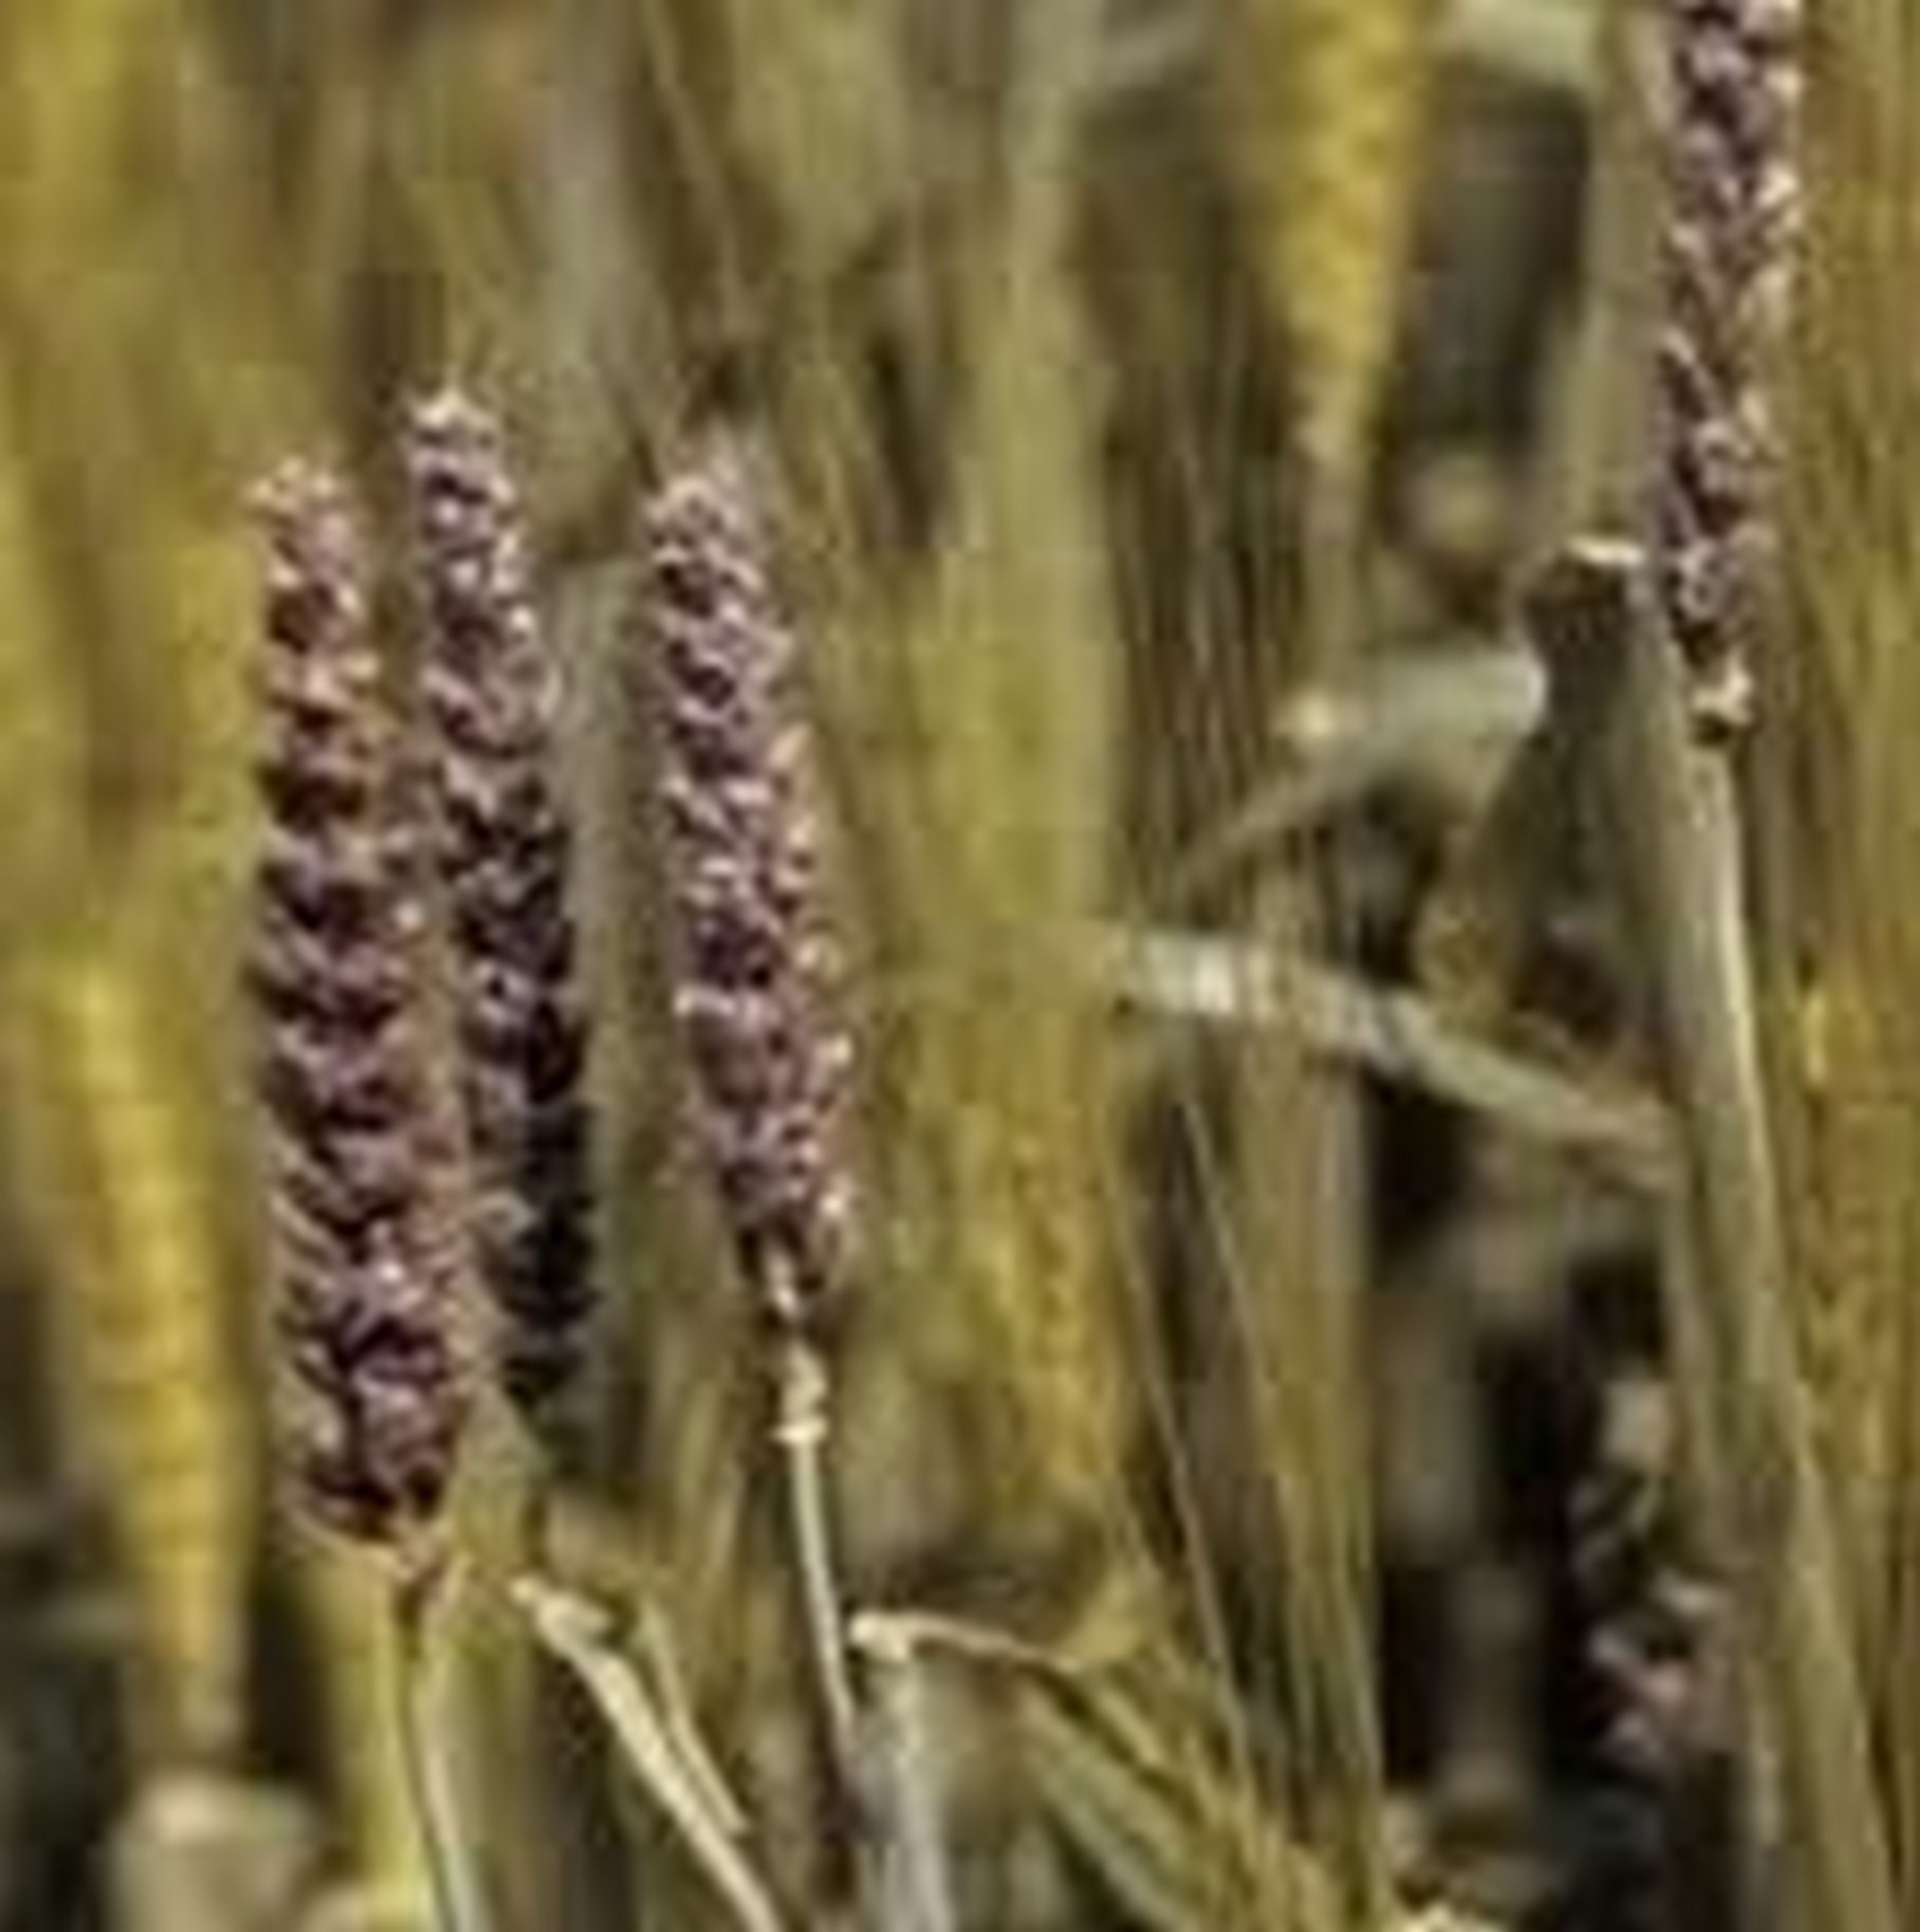Wheat Loose Smut: (171, 311, 927, 1543)
